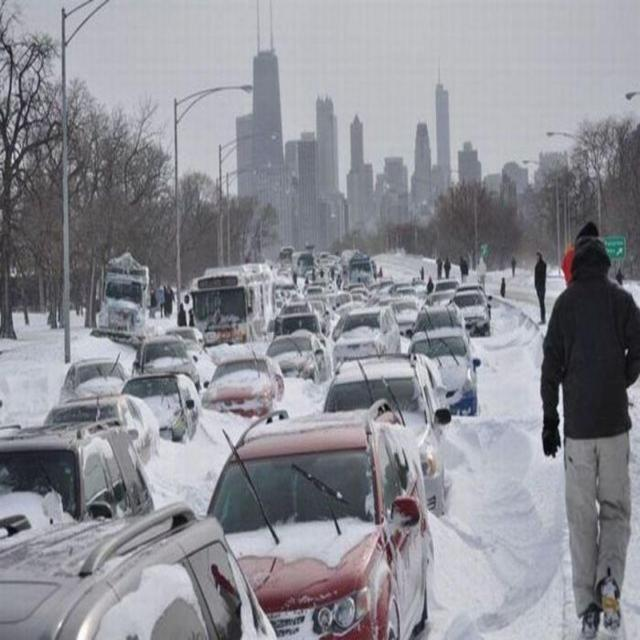Bus: (186, 248, 272, 354)
Car: (209, 402, 431, 640), (0, 491, 248, 640), (2, 415, 155, 533), (406, 308, 479, 416), (200, 344, 288, 420), (118, 370, 203, 442), (132, 335, 206, 392), (330, 304, 396, 364), (266, 330, 333, 386), (58, 356, 130, 404), (450, 282, 492, 336), (164, 326, 207, 355), (305, 292, 337, 326), (424, 278, 460, 305), (390, 282, 420, 303), (303, 282, 329, 299)
Truck: (90, 250, 151, 344)
